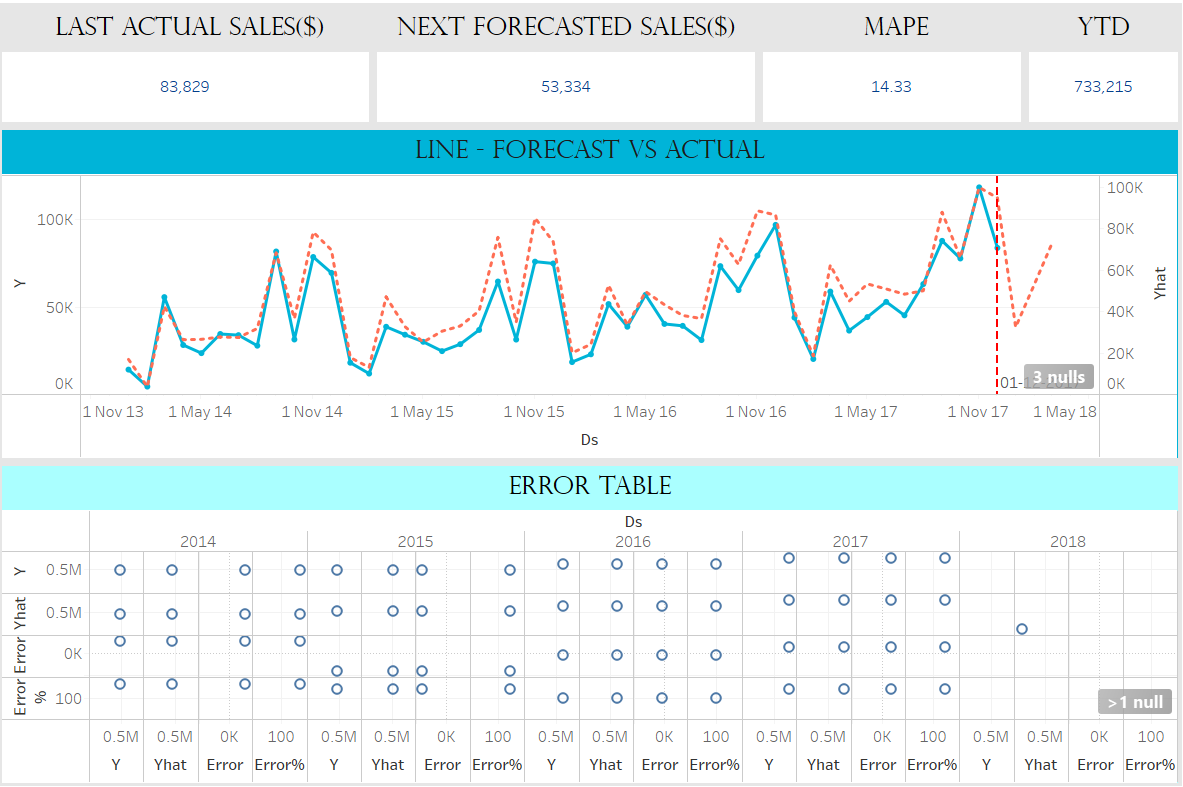

The page's visual inventory and layout, read from the dashboard file:
{"tool":"tableau","page":{"name":"Forecast Overview","canvas":[1200,800],"ordinal":0},"visuals":[{"type":"worksheet","title":" Last Actual Sales($)","mark":"Automatic","box":[8,8,374.9,123]},{"type":"worksheet","title":"Next Forecasted Sales($)","mark":"Automatic","box":[382.9,8,386.1,123]},{"type":"worksheet","title":" MAPE","mark":"Automatic","box":[769,8,266,123]},{"type":"worksheet","title":"YTD","mark":"Automatic","box":[1035,8,157,123]},{"type":"worksheet","title":"Line - Forecast vs Actual","mark":"Automatic","rows":["y","yhat"],"cols":["ds"],"box":[8,131,1184,336]},{"type":"worksheet","title":"Error Table","mark":"Automatic","rows":["y","yhat","Calculation_515943656184791044","Calculation_515943656184881157"],"cols":["ds","y","yhat","Calculation_515943656184791044","Calculation_515943656184881157"],"box":[8,467,1184,325]}]}

Visuals, with their boxes in screenshot pixels (x1, y1, x2, y2), scaled from the page's 1200x800 canvas onto the 1183x787 screenshot:
" Last Actual Sales($)" worksheet: select_region(8, 8, 377, 129)
"Next Forecasted Sales($)" worksheet: select_region(377, 8, 758, 129)
" MAPE" worksheet: select_region(758, 8, 1020, 129)
"YTD" worksheet: select_region(1020, 8, 1175, 129)
"Line - Forecast vs Actual" worksheet: select_region(8, 129, 1175, 459)
"Error Table" worksheet: select_region(8, 459, 1175, 779)
